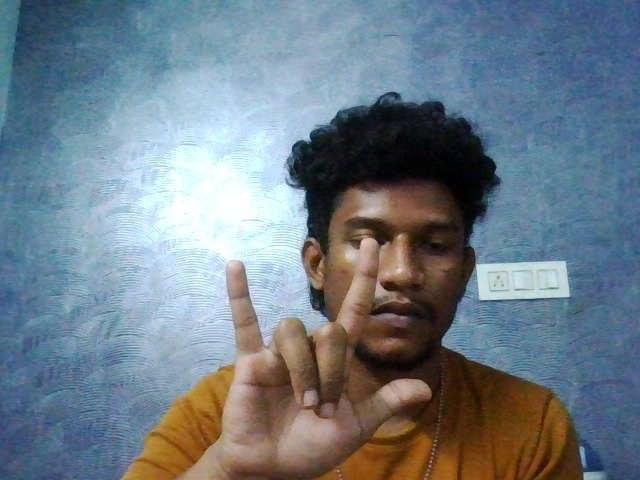i love you: (185, 230, 456, 479)
